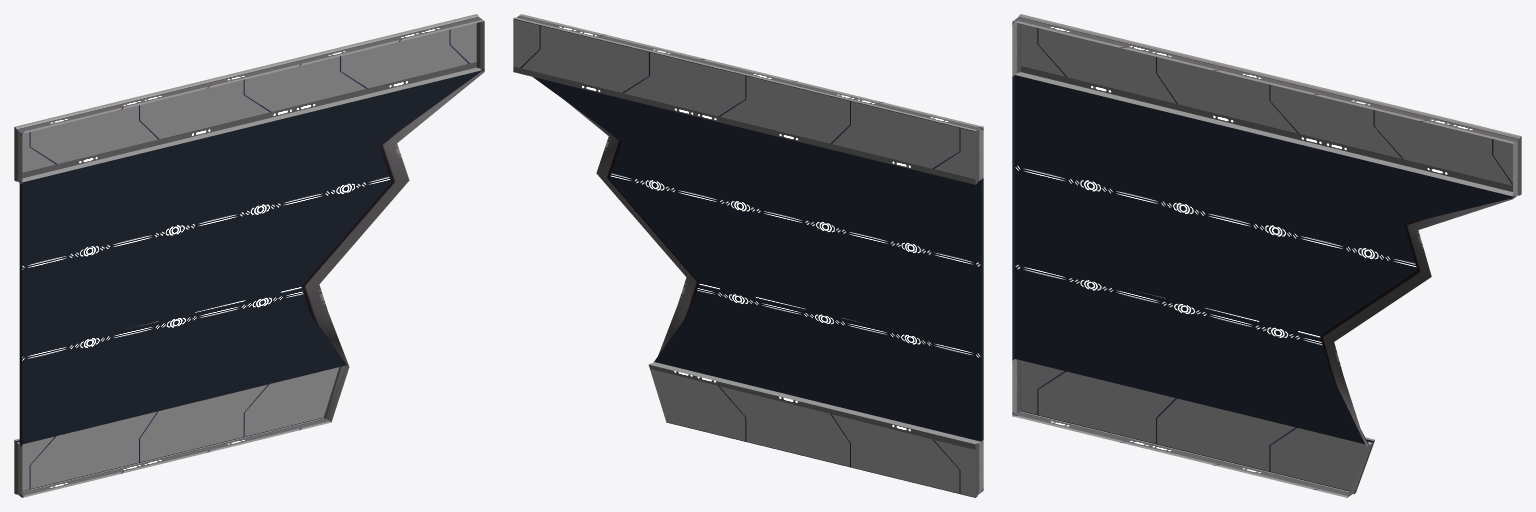
The model's file is SM_M_BRoad2.fbx.
3 renders of one model, left to right at view 1: azimuth 30°, elevation 25°; view 2: azimuth 150°, elevation 25°; view 3: azimuth 330°, elevation 25°, orthographic. The views are drawn at different scales.
Visible parts, largest first — view 1: SM_M_BRoad2; view 2: SM_M_BRoad2; view 3: SM_M_BRoad2.
Boxes of the visible parts, x1,y1,x2,y2 form: SM_M_BRoad2: (14, 14, 484, 497); SM_M_BRoad2: (513, 14, 983, 497); SM_M_BRoad2: (1012, 14, 1521, 497).
Size of the model in its own units: 5195 by 3938 by 155.
